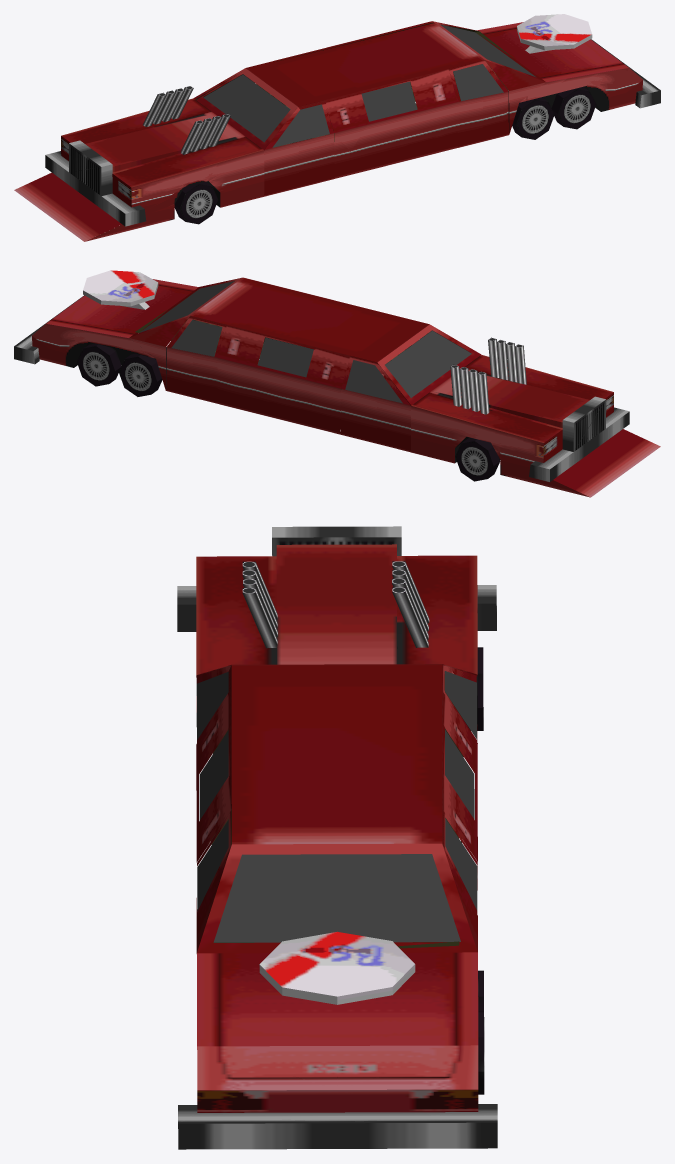
Rendered from limosine_power_shovel.glb.
3 renders of one model, top to bottom at view 1: azimuth 30°, elevation 25°; view 2: azimuth 150°, elevation 25°; view 3: azimuth 270°, elevation 25°, orthographic. The views are drawn at different scales.
Visible parts, largest first — view 1: Object_5, Object_13, Object_15, Object_16, Object_9, Object_17, Object_11, Object_12, Object_10, Object_3, Object_7, Object_6 (+2 smaller); view 2: Object_5, Object_13, Object_15, Object_16, Object_9, Object_17, Object_11, Object_12, Object_10, Object_6, Object_3, Object_7 (+1 smaller); view 3: Object_5, Object_16, Object_15, Object_10, Object_14, Object_12, Object_9, Object_7, Object_6, Object_11.
Boxes of the visible parts, x1,y1,x2,y2 form: Object_5: (14, 21, 484, 241); Object_13: (256, 82, 545, 196); Object_15: (203, 24, 535, 147); Object_16: (61, 98, 263, 187); Object_9: (194, 21, 545, 150); Object_17: (34, 150, 264, 241); Object_11: (174, 87, 596, 224); Object_12: (45, 39, 660, 226); Object_10: (476, 22, 628, 82); Object_3: (508, 68, 642, 132); Object_7: (517, 14, 592, 53); Object_6: (143, 86, 230, 154); Object_5: (191, 277, 660, 497); Object_13: (129, 338, 471, 452); Object_15: (139, 281, 471, 403); Object_16: (411, 355, 613, 442); Object_9: (129, 277, 481, 405); Object_17: (410, 406, 589, 497); Object_11: (76, 343, 500, 481); Object_12: (14, 295, 629, 481); Object_10: (46, 279, 198, 337); Object_6: (450, 337, 526, 414); Object_3: (32, 290, 197, 388); Object_7: (83, 270, 158, 309); Object_5: (231, 664, 442, 844); Object_16: (196, 544, 477, 675); Object_15: (197, 671, 477, 942); Object_10: (197, 952, 478, 1046); Object_14: (197, 1045, 478, 1112); Object_12: (177, 526, 497, 1149); Object_9: (196, 664, 477, 953); Object_7: (259, 931, 415, 1004); Object_6: (242, 561, 429, 648); Object_11: (468, 647, 484, 1094).
Size of the model in its own units: 2613 by 393 by 634.
16 materials, 16 textured.
